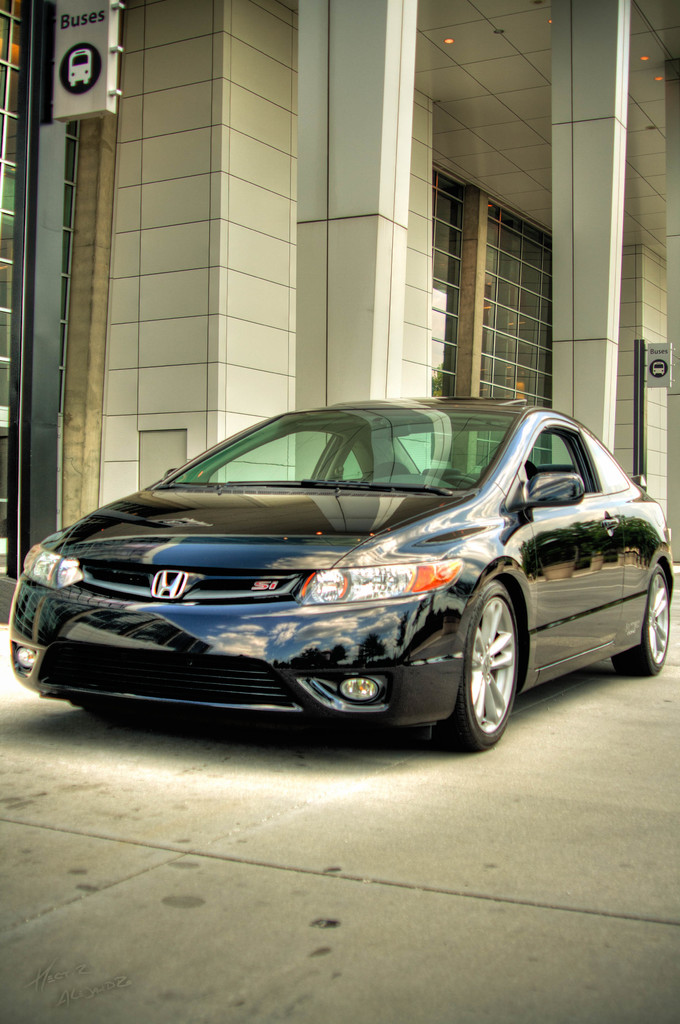Car: (10, 401, 679, 733)
